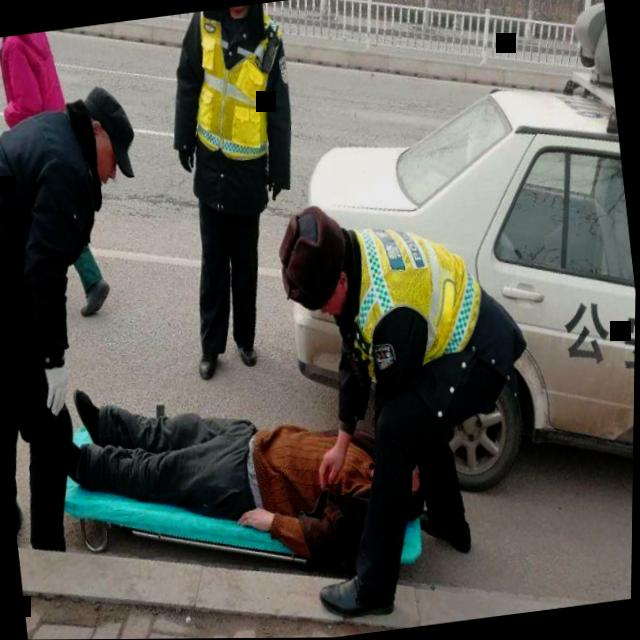Fall-Detected: (24, 329, 445, 605)
